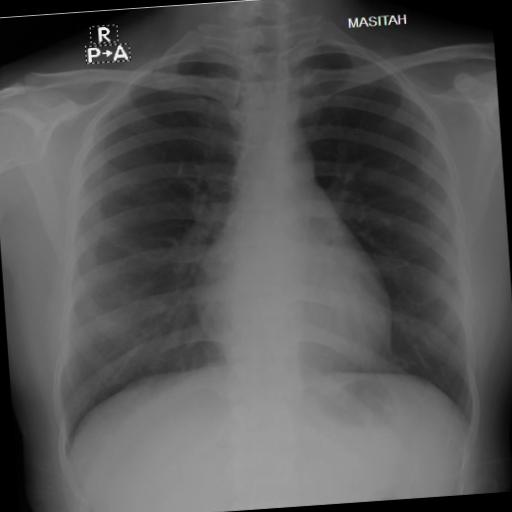normal: (12, 2, 488, 465)
